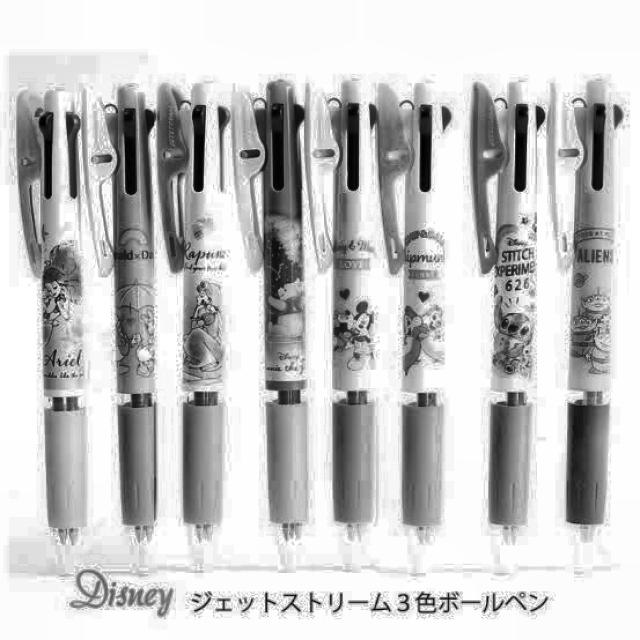Pen: (545, 71, 639, 551), (229, 64, 306, 548), (376, 70, 451, 557), (12, 81, 84, 572), (158, 72, 227, 556), (88, 78, 156, 562), (470, 69, 537, 554), (314, 74, 372, 563)
